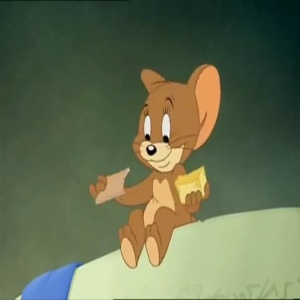Jerry: (127, 55, 224, 170)
